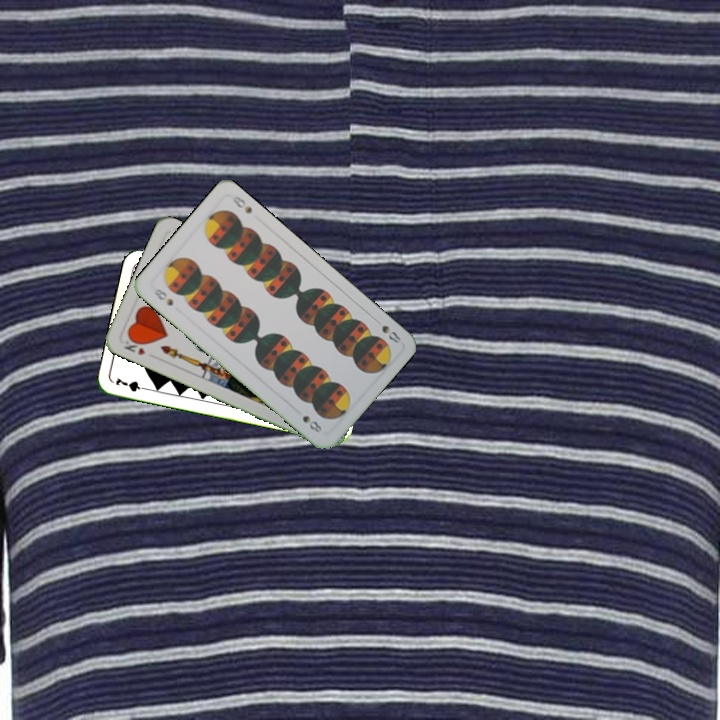G7: (111, 373, 152, 394)
HK: (120, 334, 148, 358)
S8: (149, 285, 176, 309), (378, 321, 403, 346)
